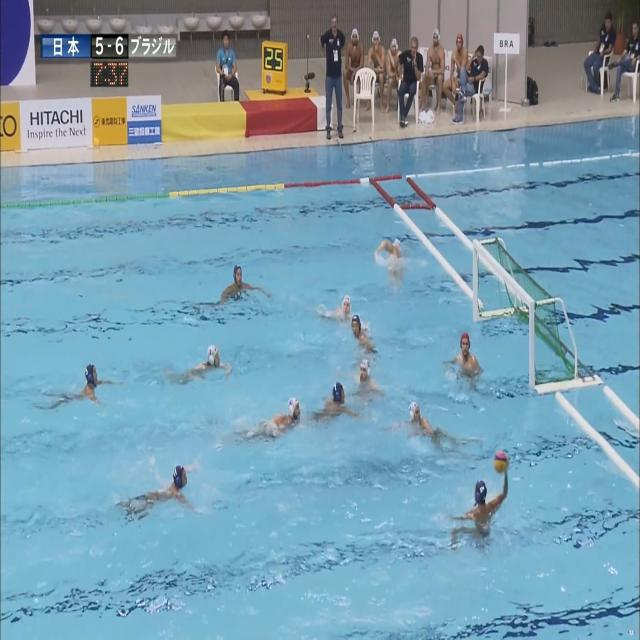ball: (494, 450, 507, 472)
